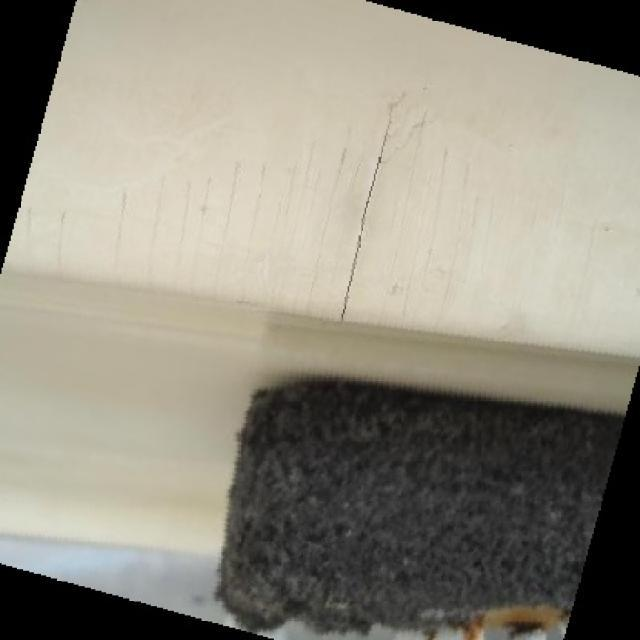crack: (375, 109, 393, 182), (342, 250, 358, 321), (358, 186, 376, 249)
